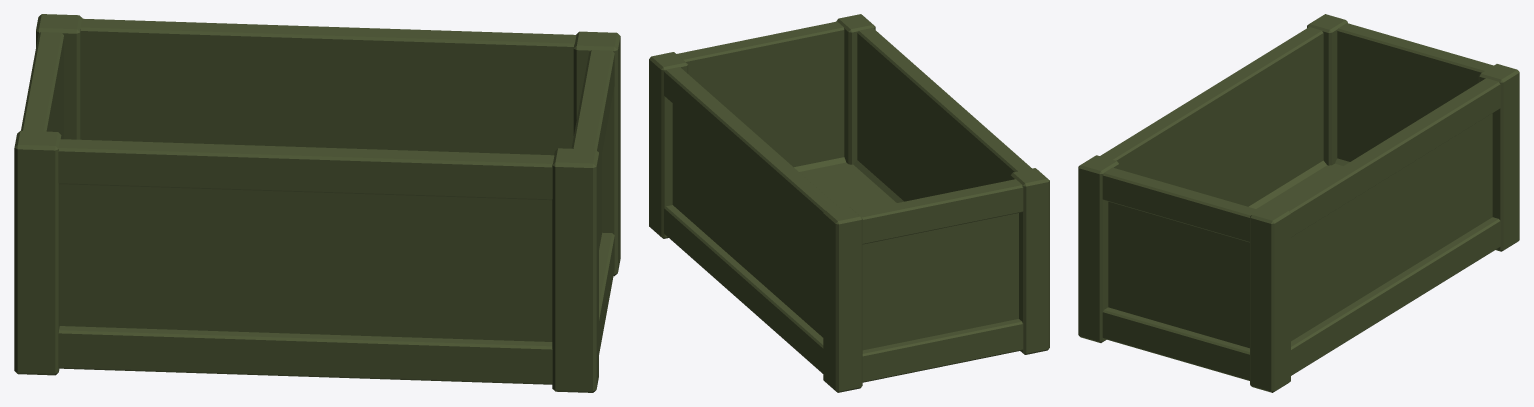
Rendered from caixa_4_corpo.glb.
3 views of the same model, side by side, from view 1: azimuth 30°, elevation 25°; view 2: azimuth 150°, elevation 25°; view 3: azimuth 270°, elevation 25° (orthographic). The views are drawn at different scales.
Visible parts, largest first — view 1: SM_WeaponCrate_04_B; view 2: SM_WeaponCrate_04_B; view 3: SM_WeaponCrate_04_B.
Part boxes in pixels (x1=…): SM_WeaponCrate_04_B: x1=14, y1=14, x2=620, y2=392; SM_WeaponCrate_04_B: x1=649, y1=14, x2=1049, y2=392; SM_WeaponCrate_04_B: x1=1078, y1=14, x2=1519, y2=392.
Bounding box in the file's own units: 1.15 × 0.4425 × 1.03.
